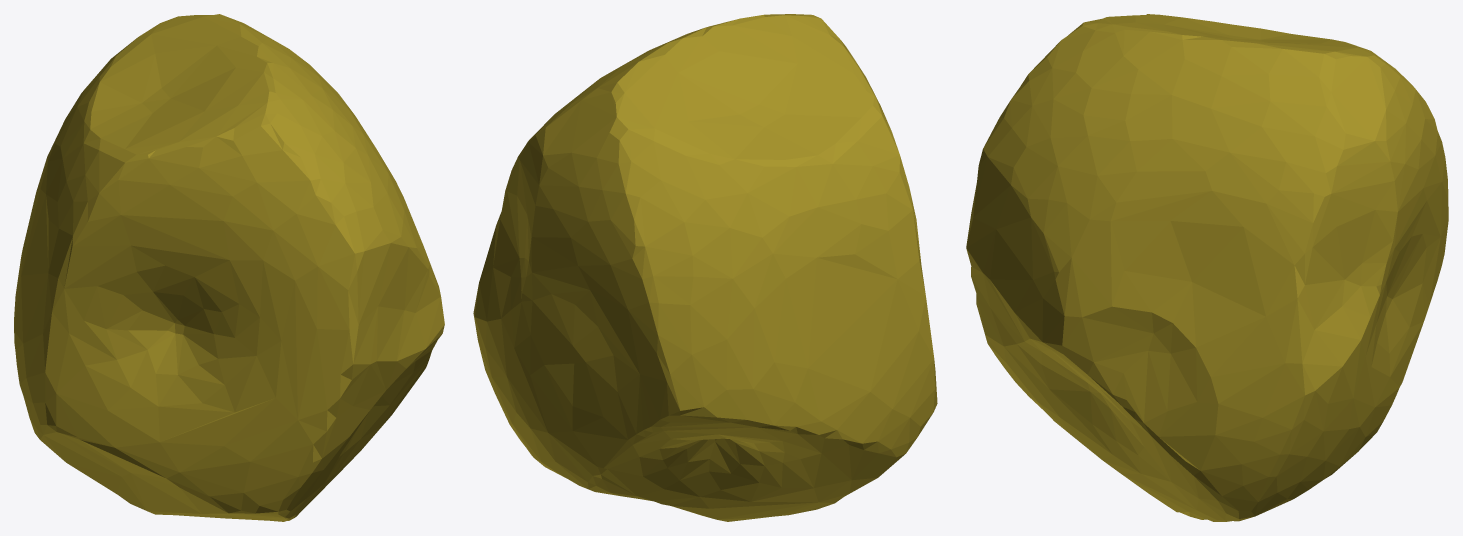
The model's file is SandBlock.fbx.
3 views of the same model, side by side, from view 1: azimuth 30°, elevation 25°; view 2: azimuth 150°, elevation 25°; view 3: azimuth 270°, elevation 25° (orthographic). The views are drawn at different scales.
Visible parts, largest first — view 1: Cube; view 2: Cube; view 3: Cube.
Part boxes in pixels (left/top/right/bottom): Cube: left=14, top=14, right=444, bottom=521; Cube: left=473, top=14, right=937, bottom=521; Cube: left=966, top=14, right=1448, bottom=521.
Bounding box in the file's own units: 277 × 293 × 313.
